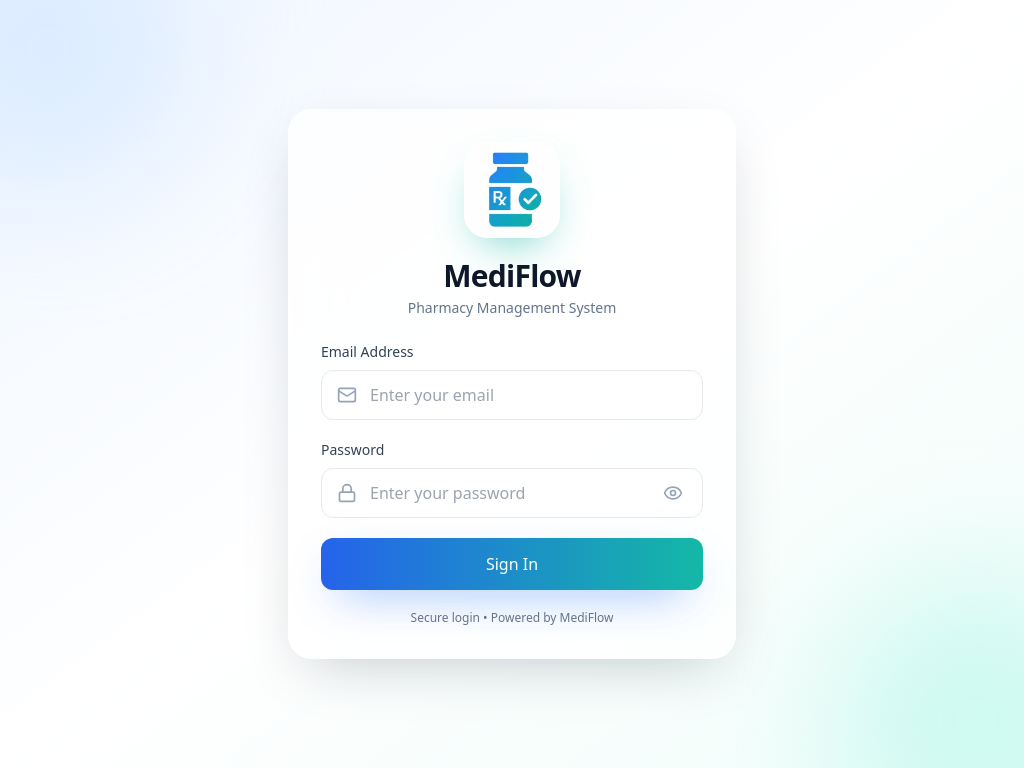
LoginPage › toggles password visibility with the eye button
Click the button named "show password" at [673, 493], box [655,475,691,511]
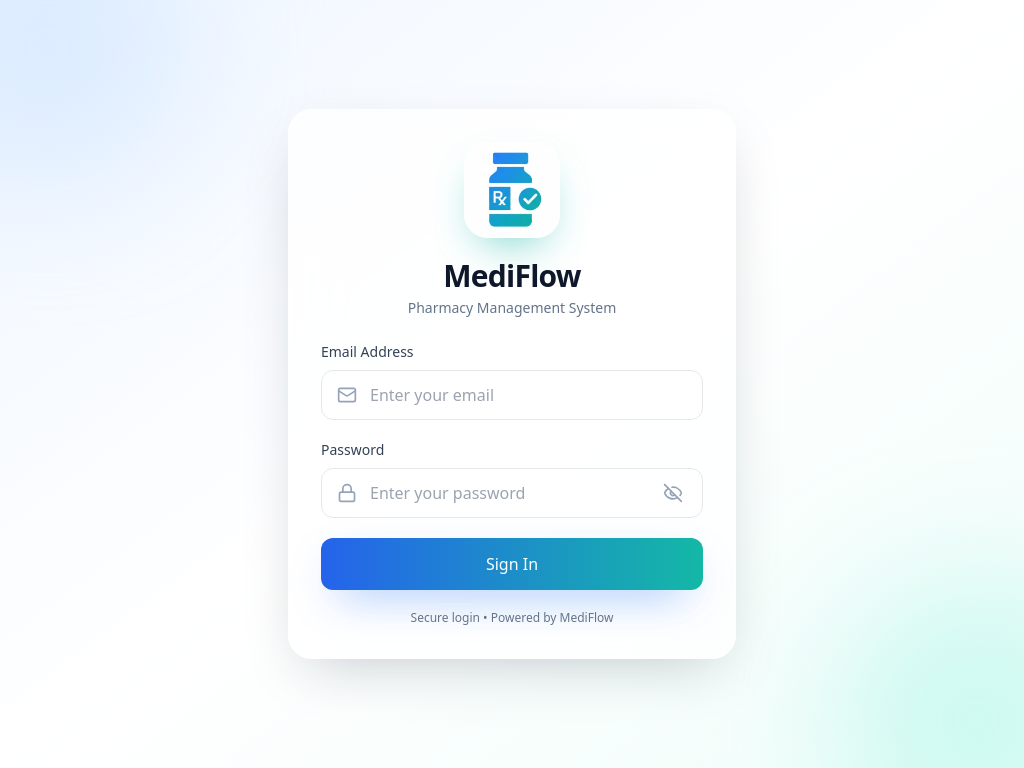
Check: the button named "hide password" is shown, box [655,475,691,511]
